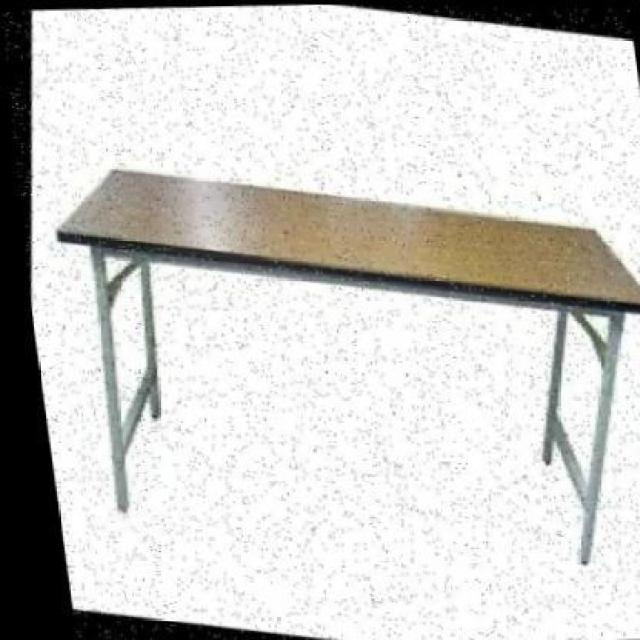tables: (54, 165, 638, 564)
